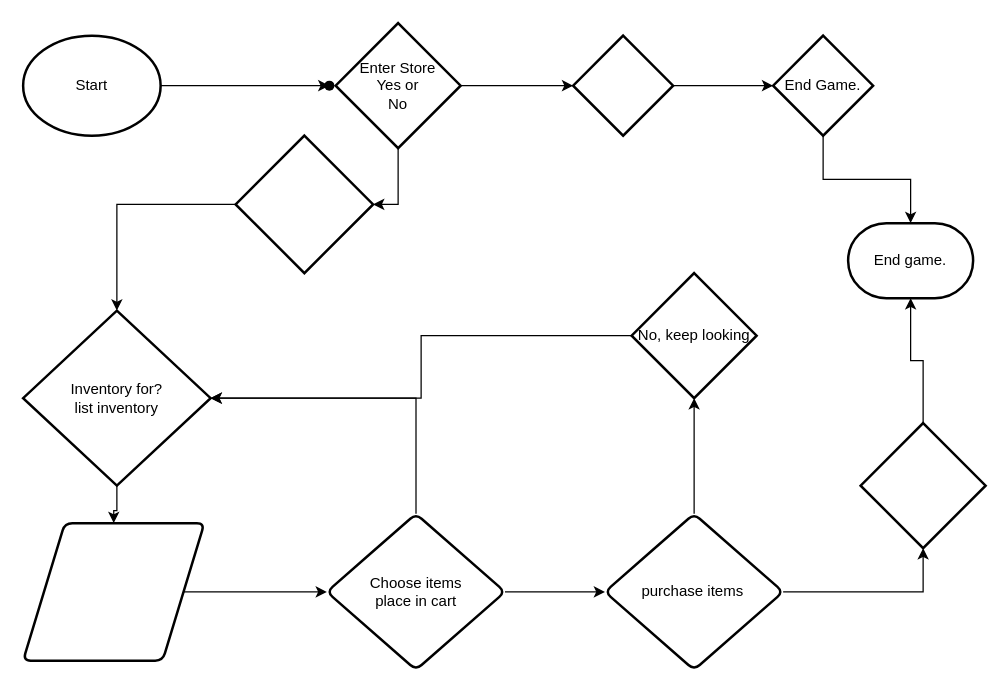
Some shapes in this 1008 by 693 pixel diagram are drawn without their labels. Here are the shapes that lost their labels. From the top down, the centre of each, then its label:
At pixel 622 85: "NO".
At pixel 304 204: "Yes, look and purchase".
At pixel 922 485: "Yes, and exit.".
At pixel 113 591: "Weapons Armor Health".
